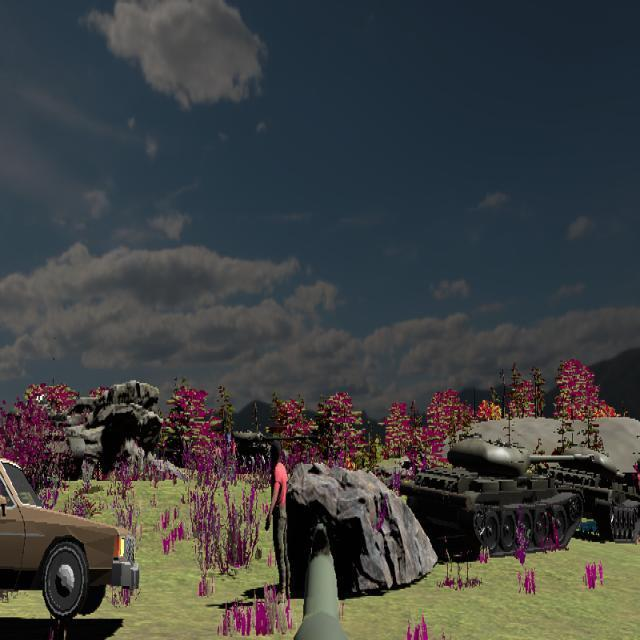Human: (265, 442, 291, 597)
Tank: (401, 435, 581, 555), (526, 450, 640, 540)
car: (1, 452, 141, 620)
